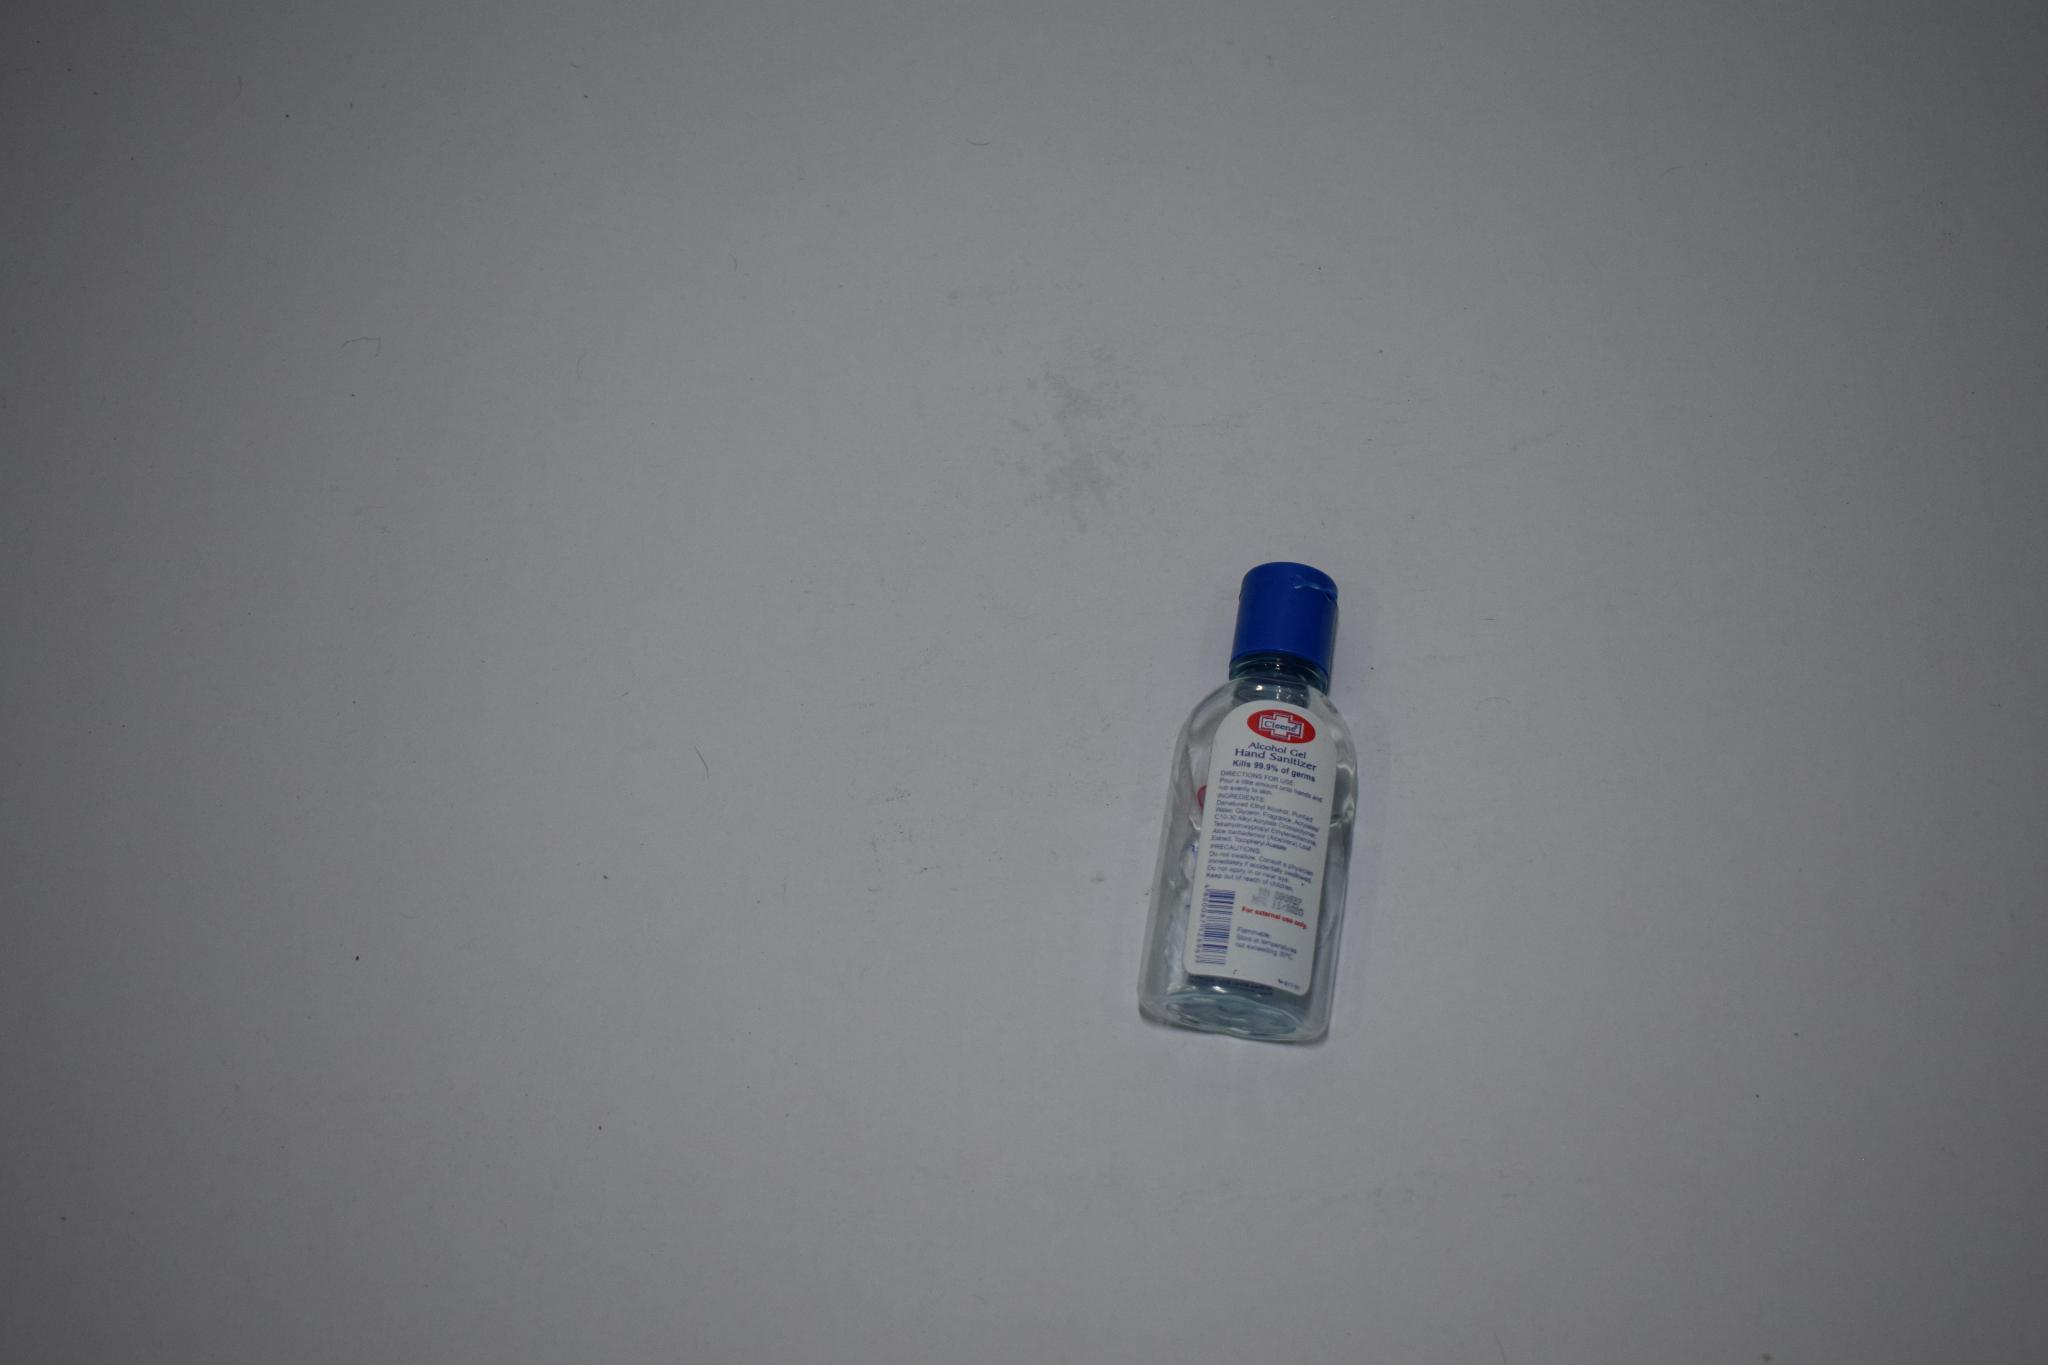bottle: (1127, 551, 1390, 1080)
